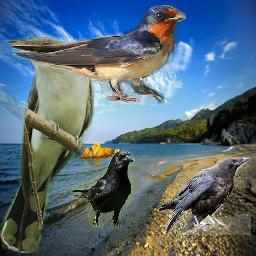Crow: (158, 157, 251, 235), (72, 150, 135, 228)
Cuckoo: (0, 37, 95, 253)
Swallow: (12, 5, 186, 104)
